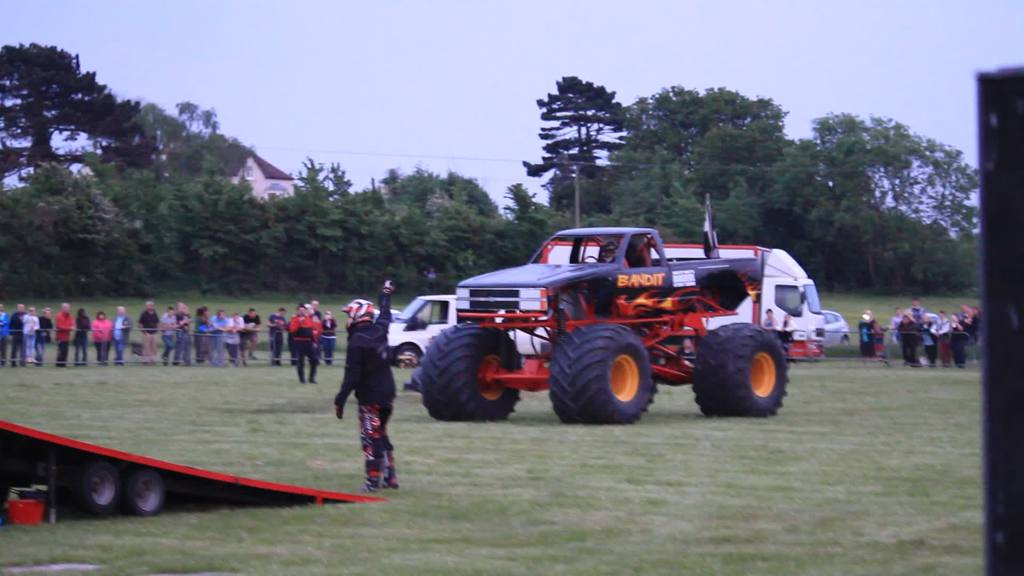Car: (824, 311, 848, 350)
